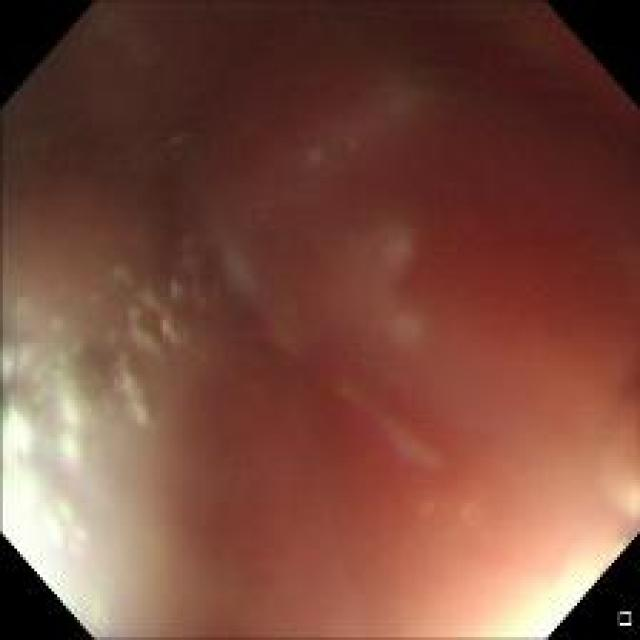blur: (4, 2, 636, 636)
color misalignment: (0, 261, 185, 425), (334, 378, 440, 470), (216, 244, 294, 361), (374, 218, 422, 364), (40, 495, 95, 551), (159, 311, 185, 344), (58, 431, 81, 466), (166, 270, 192, 300)
saturation: (4, 408, 116, 632), (506, 565, 591, 634)
